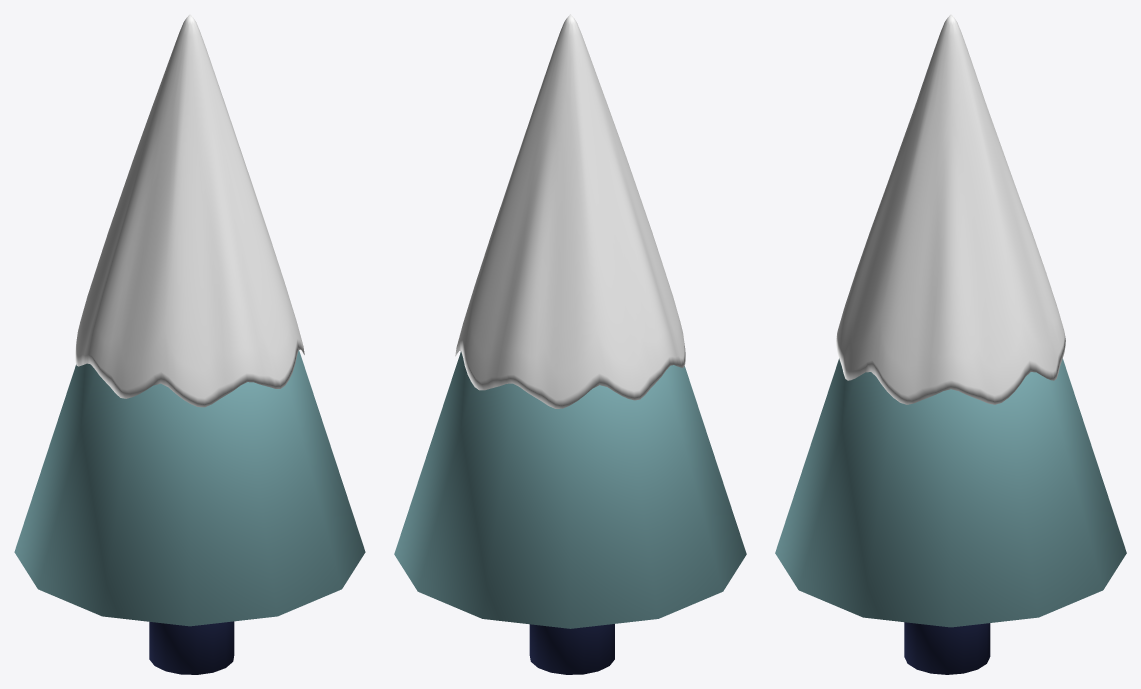
Rendered from sapin-neige.gltf.
3 views of the same model, side by side, from view 1: azimuth 30°, elevation 25°; view 2: azimuth 150°, elevation 25°; view 3: azimuth 270°, elevation 25° (orthographic).
Visible parts, largest first — view 1: sapin, sapin.001, sapin.tronc; view 2: sapin, sapin.001, sapin.tronc; view 3: sapin, sapin.001, sapin.tronc.
Part boxes in pixels (<box>): sapin: <box>14,350,365,626</box>; sapin.001: <box>75,14,304,407</box>; sapin.tronc: <box>149,621,234,674</box>; sapin: <box>394,351,746,628</box>; sapin.001: <box>455,14,685,408</box>; sapin.tronc: <box>529,624,614,674</box>; sapin: <box>775,358,1126,627</box>; sapin.001: <box>836,14,1065,404</box>; sapin.tronc: <box>904,622,990,674</box>.
Bounding box in the file's own units: 1.29 × 2.61 × 1.29.
